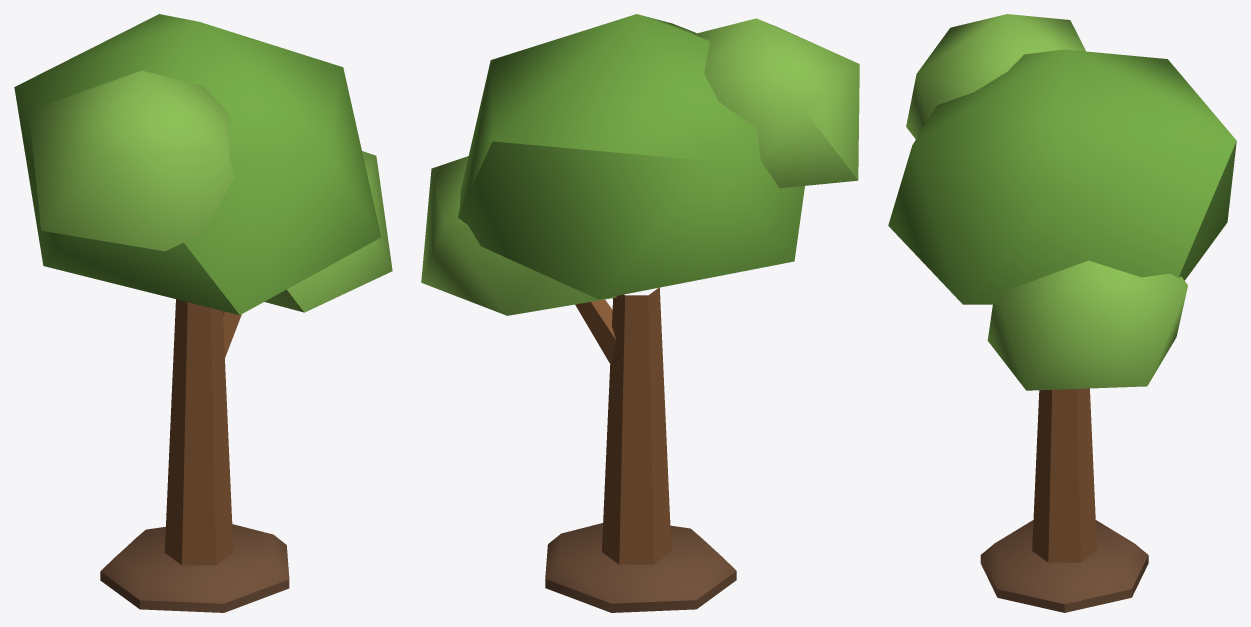
Rendered from apple_tree_young.glb.
3 renders of one model, left to right at view 1: azimuth 30°, elevation 25°; view 2: azimuth 150°, elevation 25°; view 3: azimuth 270°, elevation 25°, orthographic. The views are drawn at different scales.
Visible parts, largest first — view 1: apple_tree_young; view 2: apple_tree_young; view 3: apple_tree_young.
Boxes of the visible parts, x1,y1,x2,y2 form: apple_tree_young: (14,14,392,612); apple_tree_young: (421,14,859,612); apple_tree_young: (888,14,1236,612).
Bounding box in the file's own units: 0.8628 × 1.21 × 0.7293.
1 material, 1 textured.
